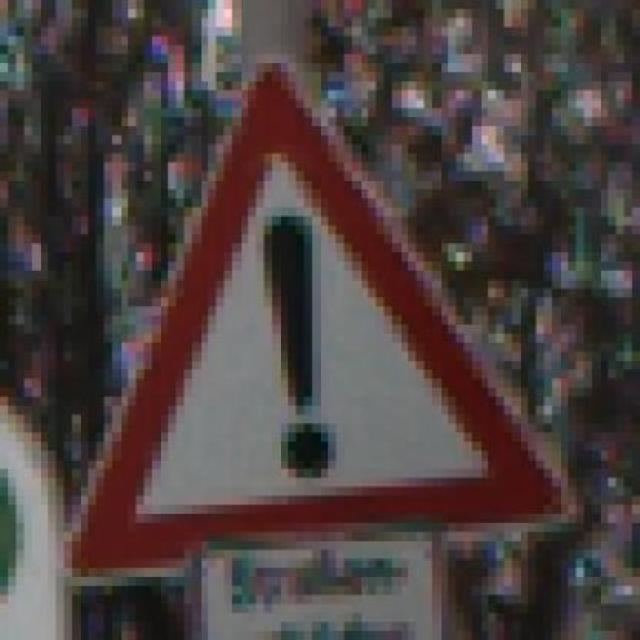Attention Please-: (24, 65, 584, 570)
